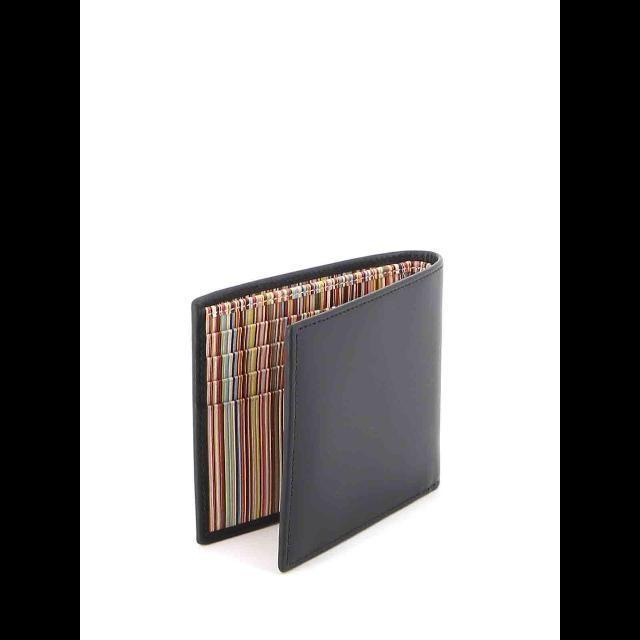Wallet: (194, 247, 440, 573)
